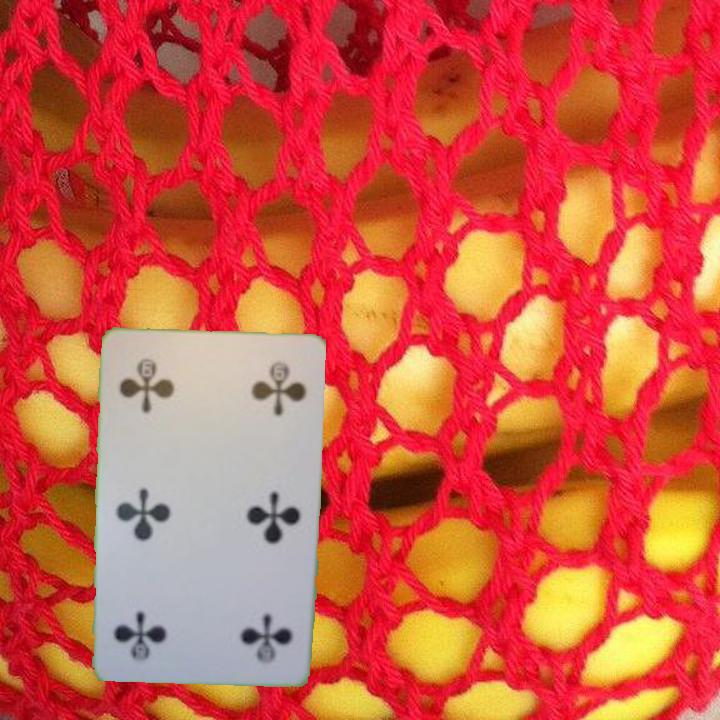c_6.png: (199, 582, 301, 671), (113, 343, 215, 432)
